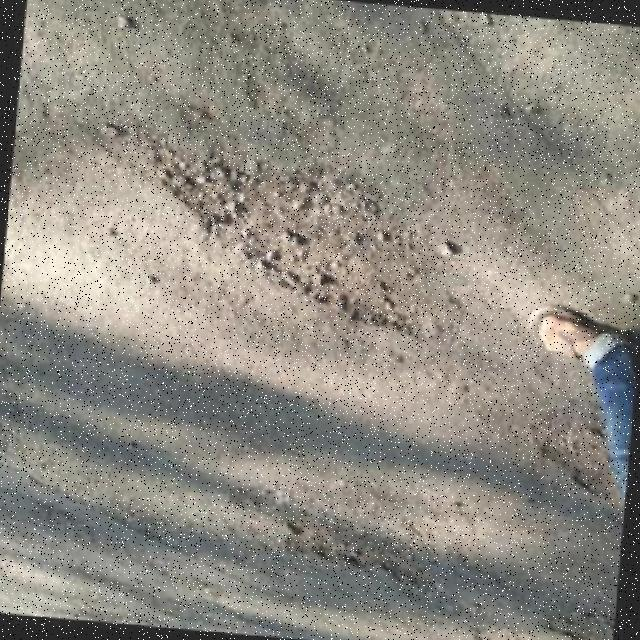Pothole: (129, 133, 451, 338), (229, 487, 451, 587), (531, 387, 622, 508)
